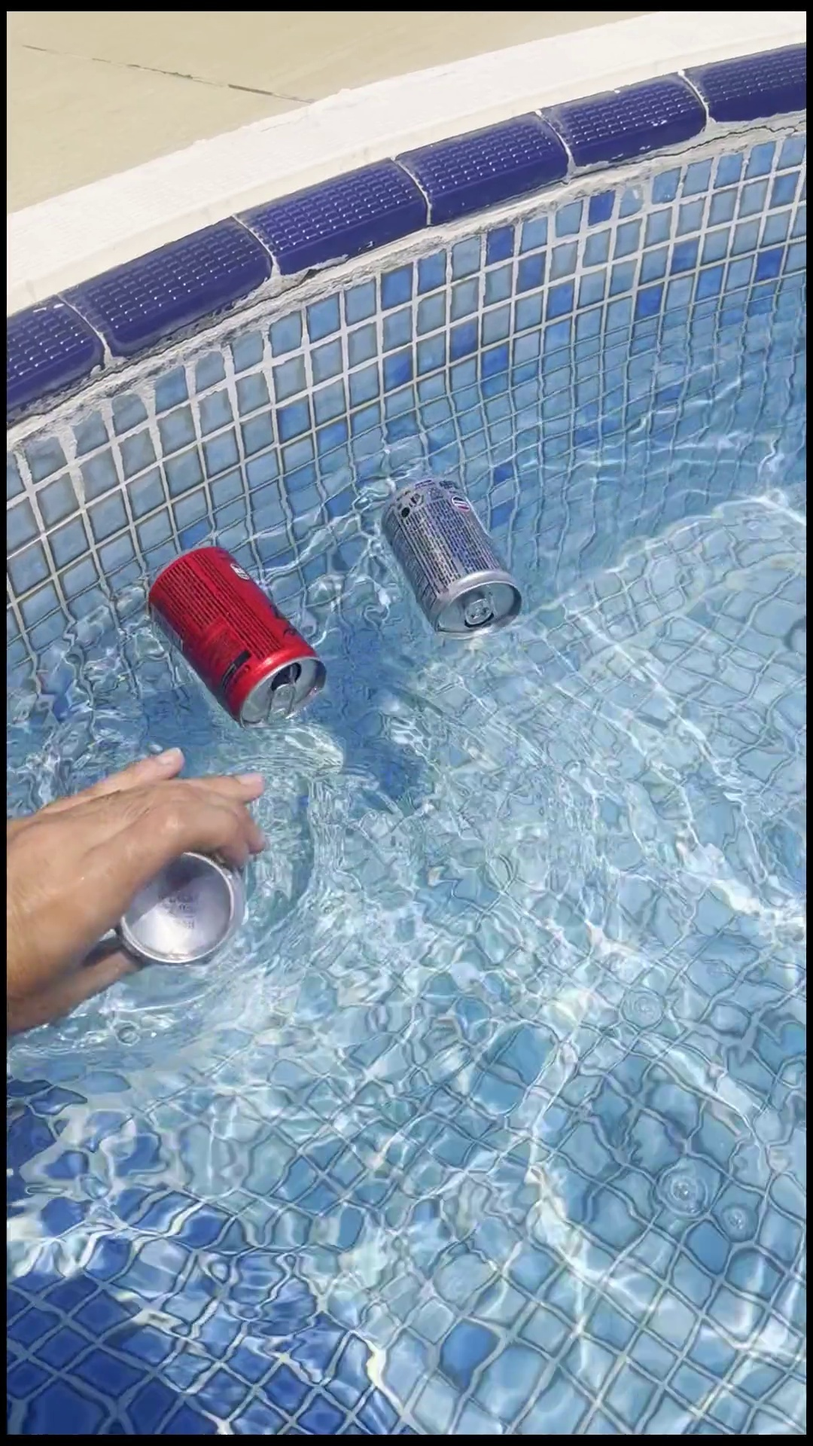debris: (129, 500, 327, 759), (373, 446, 523, 669), (116, 779, 245, 1002)
